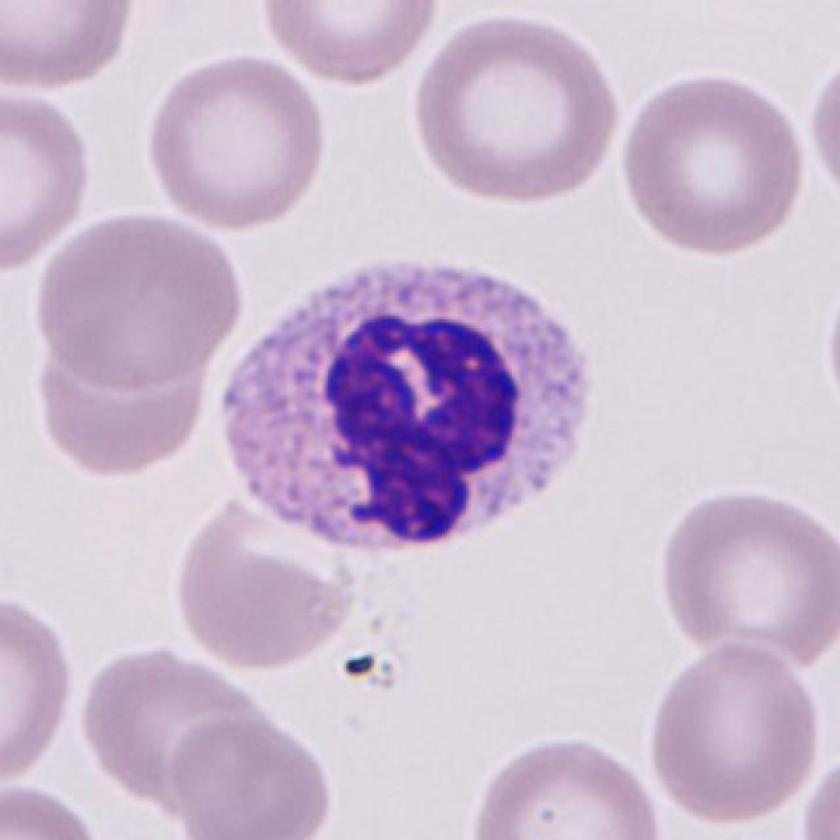neutrophil: (222, 263, 598, 559)
